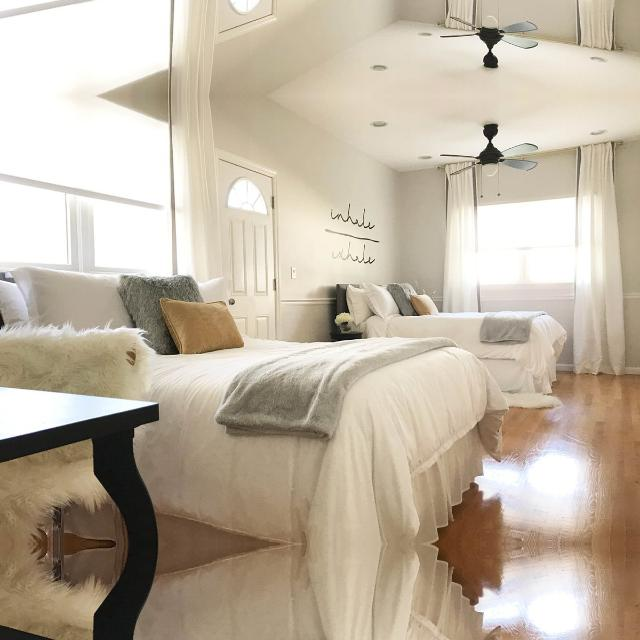pillow: (159, 297, 246, 356), (410, 294, 440, 314)
